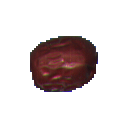gd: (13, 21, 117, 118)
